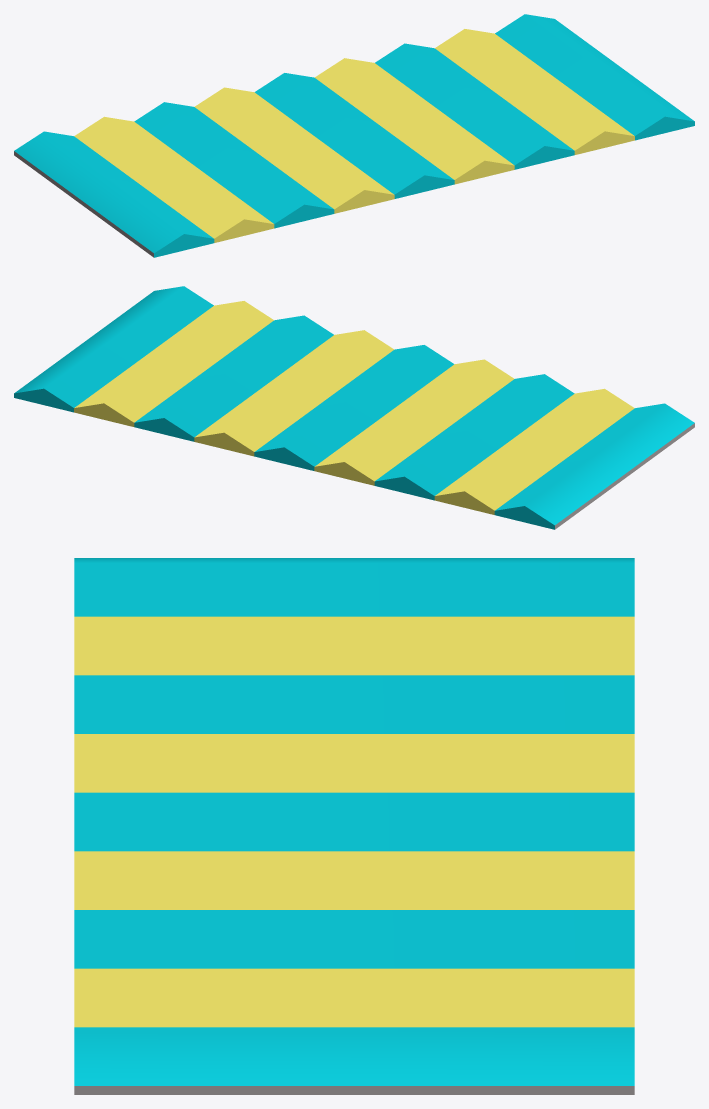
The model's file is carpet_005.glb.
3 views of the same model, one above another, from view 1: azimuth 30°, elevation 25°; view 2: azimuth 150°, elevation 25°; view 3: azimuth 270°, elevation 25° (orthographic). The views are drawn at different scales.
Parts seen in each view (by area): view 1: carpet_005; view 2: carpet_005; view 3: carpet_005.
Boxes of the visible parts, box(x1,y1,x2,y2) form: carpet_005: box(14, 14, 694, 257); carpet_005: box(14, 286, 694, 529); carpet_005: box(74, 558, 634, 1094).
Size of the model in its own units: 1.36 by 0.0398 by 0.6104.
Materials: 1 (1 with a texture image).
